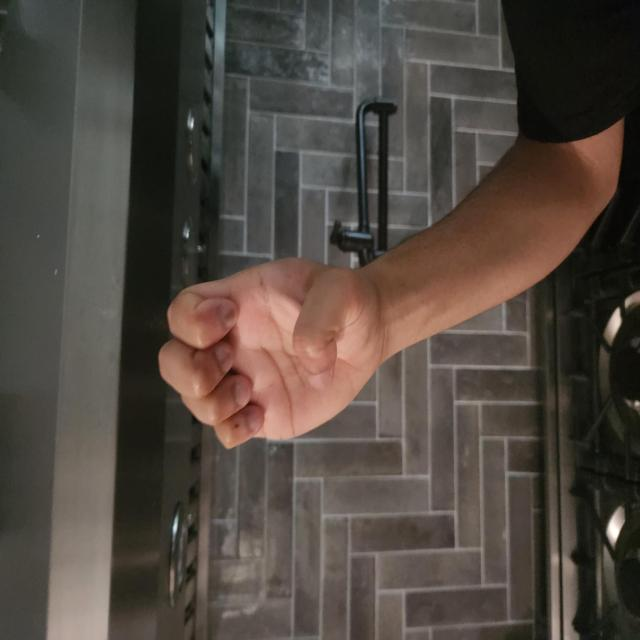E: (140, 206, 294, 519)
